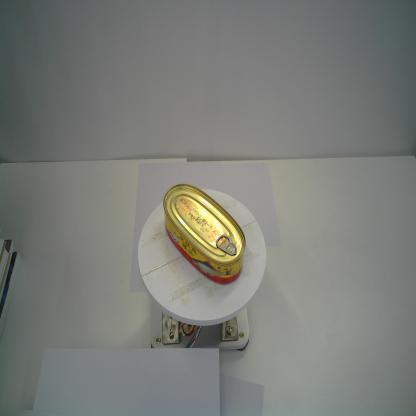Canned Food: (162, 183, 247, 285)
